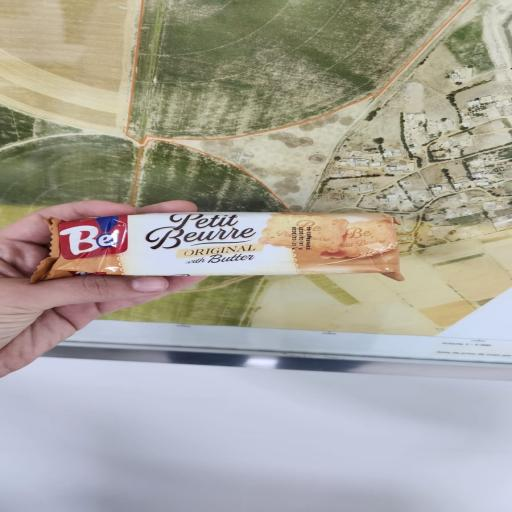petit_beurre: (14, 175, 446, 324)
